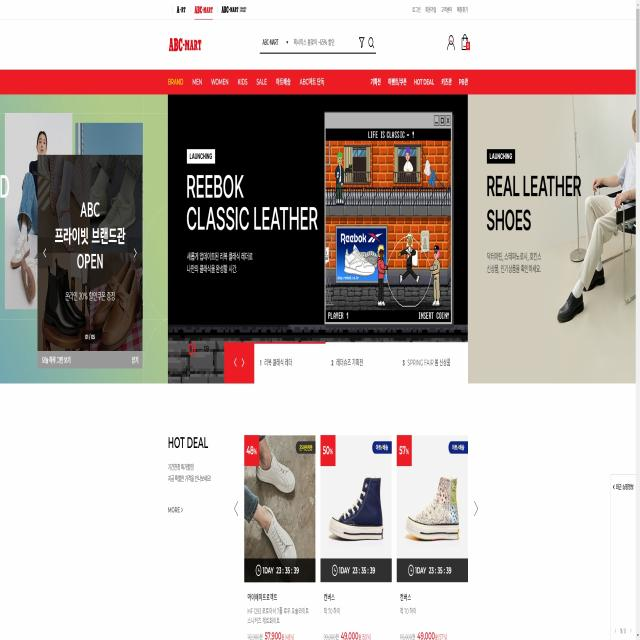menu-bar: (408, 3, 472, 17), (444, 32, 475, 57)
search: (257, 32, 377, 54)
tab-bar: (167, 69, 326, 93), (170, 2, 253, 20)
